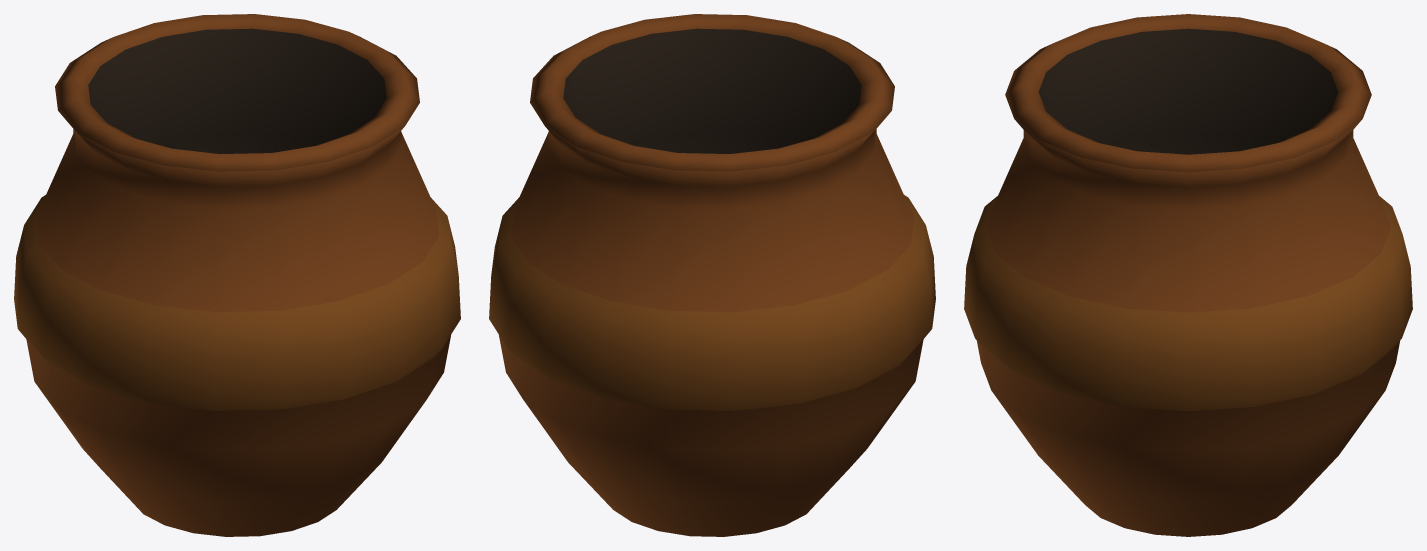
The model's file is vase.glb.
The picture shows the model from 3 angles, left to right: view 1: azimuth 30°, elevation 25°; view 2: azimuth 150°, elevation 25°; view 3: azimuth 270°, elevation 25°; orthographic projection.
Visible parts, largest first — view 1: Vase_2; view 2: Vase_2; view 3: Vase_2.
Part boxes in pixels (box(x1,y1,x2,y2)): Vase_2: box(14, 14, 460, 536); Vase_2: box(489, 14, 935, 536); Vase_2: box(964, 14, 1412, 536).
Bounding box in the file's own units: 1 × 1 × 1.
